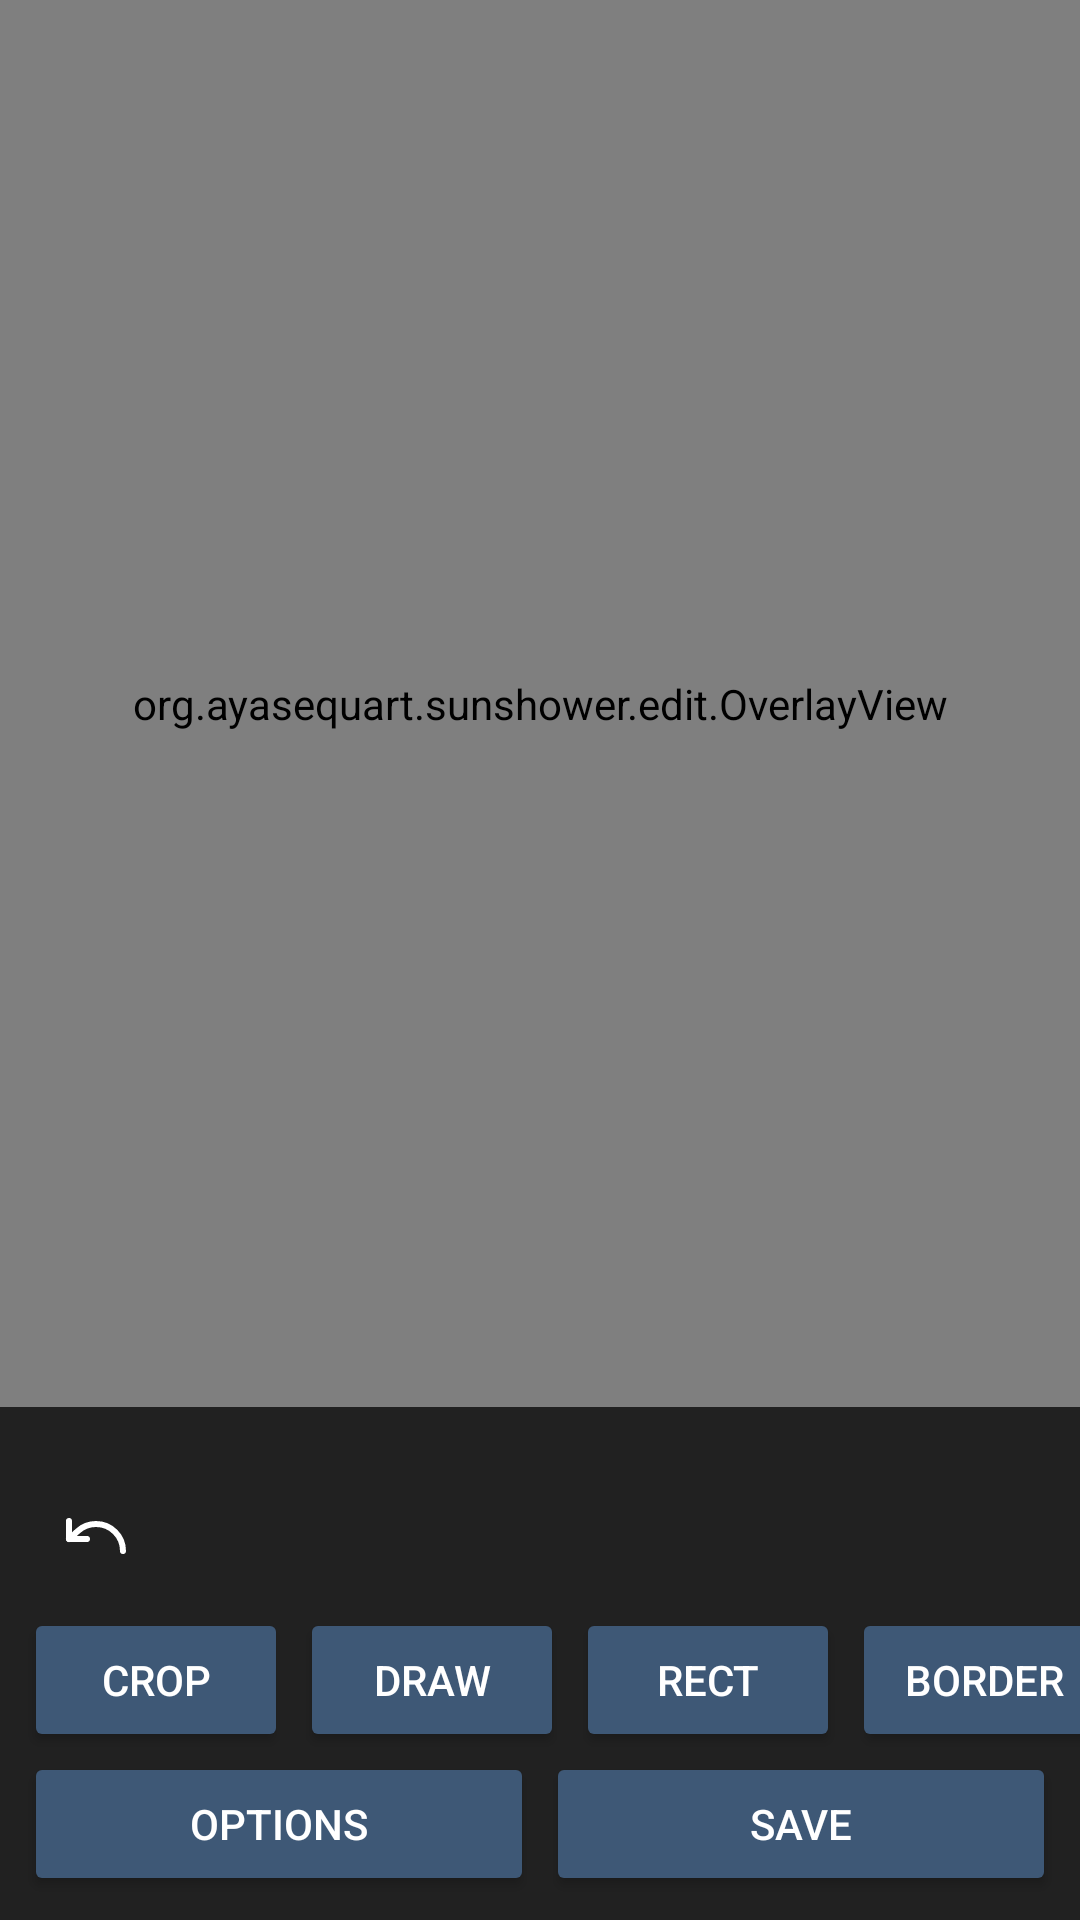

Screen size 1080w x 1920h. Icon name, then its center in pixels as point (x, y):
Undo: point (96, 1536)
